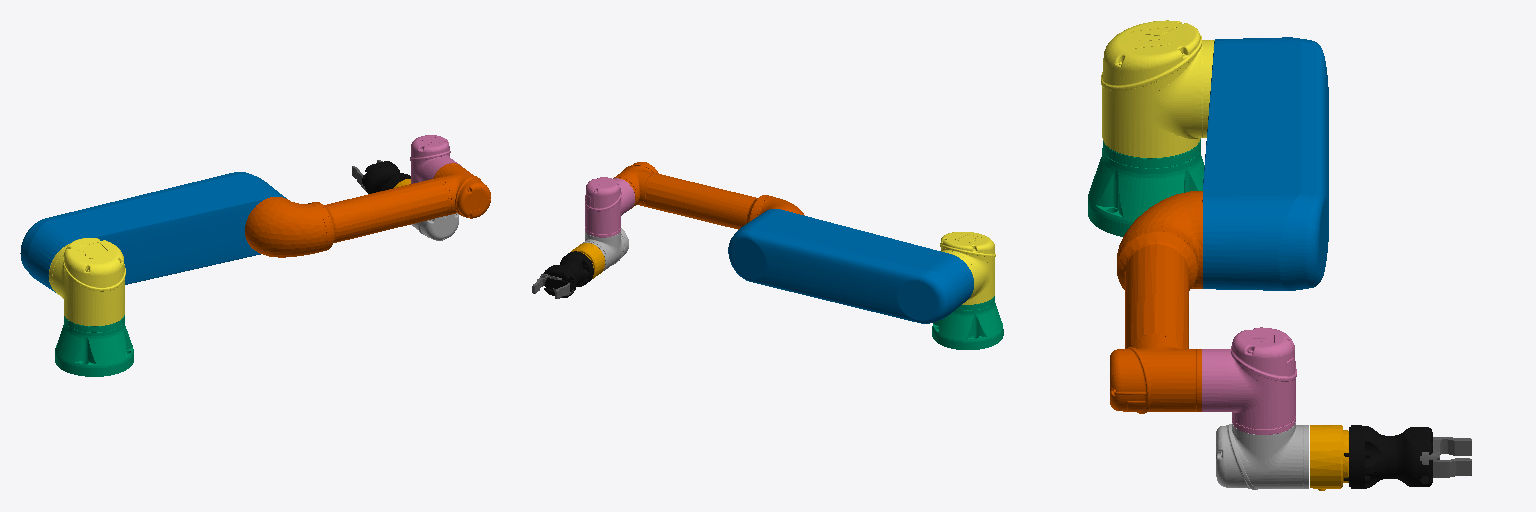
URDF robot description (ur5e):
<?xml version="1.0" ?>
<!-- =================================================================================== -->
<!-- |    This document was autogenerated by xacro from ur.urdf.xacro                  | -->
<!-- |    EDITING THIS FILE BY HAND IS NOT RECOMMENDED                                 | -->
<!-- =================================================================================== -->
<robot name="ur5e">
  <!--
    Base UR robot series xacro macro.

    NOTE this is NOT a URDF. It cannot directly be loaded by consumers
    expecting a flattened '.urdf' file. See the top-level '.xacro' for that
    (but note that .xacro must still be processed by the xacro command).

    This file models the base kinematic chain of a UR robot, which then gets
    parameterised by various configuration files to convert it into a UR3(e),
    UR5(e), UR10(e) or UR16e.

    NOTE the default kinematic parameters (i.e., link lengths, frame locations,
    offsets, etc) do not correspond to any particular robot. They are defaults
    only. There WILL be non-zero offsets between the Forward Kinematics results
    in TF (i.e., robot_state_publisher) and the values reported by the Teach
    Pendant.

    For accurate (and robot-specific) transforms, the 'kinematics_parameters_file'
    parameter MUST point to a .yaml file containing the appropriate values for
    the targeted robot.

    If using the UniversalRobots/Universal_Robots_ROS_Driver, follow the steps
    described in the readme of that repository to extract the kinematic
    calibration from the controller and generate the required .yaml file.

    Main author of the migration to yaml configs Ludovic Delval.

    Contributors to previous versions (in no particular order)

     - Denis Stogl
     - Lovro Ivanov
     - Felix Messmer
     - Kelsey Hawkins
     - Wim Meeussen
     - Shaun Edwards
     - Nadia Hammoudeh Garcia
     - Dave Hershberger
     - G. vd. Hoorn
     - Philip Long
     - Dave Coleman
     - Miguel Prada
     - Mathias Luedtke
     - Marcel Schnirring
     - Felix von Drigalski
     - Felix Exner
     - Jimmy Da Silva
     - Ajit Krisshna N L
     - Muhammad Asif Rana
  -->
  <!-- create link fixed to the "world" -->
  <link name="world"/>
  <!-- links -  main serial chain -->
  <link name="base_link"/>
  <link name="base_link_inertia">
    <visual>
      <origin rpy="0 0 3.141592653589793" xyz="0 0 0"/>
      <geometry>
        <mesh filename="package://ur_description/meshes/ur5e/visual/base.obj"/>
      </geometry>
    </visual>
    <collision>
      <origin rpy="0 0 3.141592653589793" xyz="0 0 0"/>
      <geometry>
        <mesh filename="package://ur_description/meshes/ur5e/visual/base.obj"/>
      </geometry>
    </collision>
    <inertial>
      <mass value="4.0"/>
      <origin rpy="0 0 0" xyz="0 0 0"/>
      <inertia ixx="0.00443333156" ixy="0.0" ixz="0.0" iyy="0.00443333156" iyz="0.0" izz="0.0072"/>
    </inertial>
  </link>
  <link name="shoulder_link">
    <visual>
      <origin rpy="0 0 3.141592653589793" xyz="0 0 0"/>
      <geometry>
        <mesh filename="package://ur_description/meshes/ur5e/visual/shoulder.obj"/>
      </geometry>
    </visual>
    <collision>
      <origin rpy="0 0 3.141592653589793" xyz="0 0 0"/>
      <geometry>
        <mesh filename="package://ur_description/meshes/ur5e/collision/shoulder.obj"/>
      </geometry>
    </collision>
    <inertial>
      <mass value="3.761"/>
      <origin rpy="1.570796326794897 0 0" xyz="0.0 -0.00193 -0.02561"/>
      <inertia ixx="0.0070021" ixy="7.3e-07" ixz="-1.053e-05" iyy="0.00648091" iyz="0.00049994" izz="0.00657286"/>
    </inertial>
  </link>
  <link name="upper_arm_link">
    <visual>
      <origin rpy="1.5707963267948966 0 -1.5707963267948966" xyz="0 0 0.138"/>
      <geometry>
        <mesh filename="package://ur_description/meshes/ur5e/visual/upperarm.obj"/>
      </geometry>
    </visual>
    <collision>
      <origin rpy="1.5707963267948966 0 -1.5707963267948966" xyz="0 0 0.138"/>
      <geometry>
        <mesh filename="package://ur_description/meshes/ur5e/collision/upperarm.obj"/>
      </geometry>
    </collision>
    <inertial>
      <mass value="8.058"/>
      <origin rpy="0 0 0" xyz="-0.2125 0.0 0.11336"/>
      <inertia ixx="0.01505885" ixy="-5.4e-05" ixz="5.63e-06" iyy="0.33388086" iyz="-1.81e-06" izz="0.33247207"/>
    </inertial>
  </link>
  <link name="forearm_link">
    <visual>
      <origin rpy="1.5707963267948966 0 -1.5707963267948966" xyz="0 0 0.007"/>
      <geometry>
        <mesh filename="package://ur_description/meshes/ur5e/visual/forearm.obj"/>
      </geometry>
    </visual>
    <collision>
      <origin rpy="1.5707963267948966 0 -1.5707963267948966" xyz="0 0 0.007"/>
      <geometry>
        <mesh filename="package://ur_description/meshes/ur5e/collision/forearm.obj"/>
      </geometry>
    </collision>
    <inertial>
      <mass value="2.846"/>
      <origin rpy="0 0 0" xyz="-0.2422 0.0 0.0265"/>
      <inertia ixx="0.00399632" ixy="-1.365e-05" ixz="0.00137272" iyy="0.07879254" iyz="-6.6e-06" izz="0.0784851"/>
    </inertial>
  </link>
  <link name="wrist_1_link">
    <visual>
      <origin rpy="1.5707963267948966 0 0" xyz="0 0 -0.127"/>
      <geometry>
        <mesh filename="package://ur_description/meshes/ur5e/visual/wrist1.obj"/>
      </geometry>
    </visual>
    <collision>
      <origin rpy="1.5707963267948966 0 0" xyz="0 0 -0.127"/>
      <geometry>
        <mesh filename="package://ur_description/meshes/ur5e/collision/wrist1.obj"/>
      </geometry>
    </collision>
    <inertial>
      <mass value="1.37"/>
      <origin rpy="1.570796326794897 0 0" xyz="0.0 -0.01634 -0.0018"/>
      <inertia ixx="0.00165491" ixy="-2.82e-06" ixz="-4.38e-06" iyy="0.00135962" iyz="0.00010157" izz="0.00126279"/>
    </inertial>
  </link>
  <link name="wrist_2_link">
    <visual>
      <origin rpy="0 0 0" xyz="0 0 -0.0997"/>
      <geometry>
        <mesh filename="package://ur_description/meshes/ur5e/visual/wrist2.obj"/>
      </geometry>
    </visual>
    <collision>
      <origin rpy="0 0 0" xyz="0 0 -0.0997"/>
      <geometry>
        <mesh filename="package://ur_description/meshes/ur5e/collision/wrist2.obj"/>
      </geometry>
    </collision>
    <inertial>
      <mass value="1.3"/>
      <origin rpy="-1.570796326794897 0 0" xyz="0.0 0.01634 -0.0018"/>
      <inertia ixx="0.00135617" ixy="-2.74e-06" ixz="4.44e-06" iyy="0.00127827" iyz="-5.048e-05" izz="0.00096614"/>
    </inertial>
  </link>
  <link name="wrist_3_link">
    <visual>
      <origin rpy="1.5707963267948966 0 0" xyz="0 0 -0.0989"/>
      <geometry>
        <mesh filename="package://ur_description/meshes/ur5e/visual/wrist3.obj"/>
      </geometry>
    </visual>
    <collision>
      <origin rpy="1.5707963267948966 0 0" xyz="0 0 -0.0989"/>
      <geometry>
        <mesh filename="package://ur_description/meshes/ur5e/collision/wrist3.obj"/>
      </geometry>
    </collision>
    <inertial>
      <mass value="0.365"/>
      <origin rpy="0 0 0" xyz="0.0 0.0 -0.001159"/>
      <inertia ixx="0.00018694" ixy="6e-08" ixz="-1.7e-07" iyy="0.00018908" iyz="-9.2e-07" izz="0.00025756"/>
    </inertial>
  </link>
  <!-- base_joint fixes base_link to the environment -->
  <joint name="base_joint" type="fixed">
    <origin rpy="0 0 0" xyz="0 0 0"/>
    <parent link="world"/>
    <child link="base_link"/>
  </joint>
  <!-- joints - main serial chain -->
  <joint name="base_link-base_link_inertia" type="fixed">
    <parent link="base_link"/>
    <child link="base_link_inertia"/>
    <!-- 'base_link' is REP-103 aligned (so X+ forward), while the internal
           frames of the robot/controller have X+ pointing backwards.
           Use the joint between 'base_link' and 'base_link_inertia' (a dummy
           link/frame) to introduce the necessary rotation over Z (of pi rad).
      -->
    <origin rpy="0 0 3.141592653589793" xyz="0 0 0"/>
  </joint>
  <joint name="shoulder_pan_joint" type="revolute">
    <parent link="base_link_inertia"/>
    <child link="shoulder_link"/>
    <origin rpy="0 0 0" xyz="0 0 0.1625"/>
    <axis xyz="0 0 1"/>
    <limit effort="150.0" lower="-6.283185307179586" upper="6.283185307179586" velocity="3.141592653589793"/>
    <dynamics damping="0" friction="0"/>
  </joint>
  <joint name="shoulder_lift_joint" type="revolute">
    <parent link="shoulder_link"/>
    <child link="upper_arm_link"/>
    <origin rpy="1.570796327 0 0" xyz="0 0 0"/>
    <axis xyz="0 0 1"/>
    <limit effort="150.0" lower="-6.283185307179586" upper="6.283185307179586" velocity="3.141592653589793"/>
    <dynamics damping="0" friction="0"/>
  </joint>
  <joint name="elbow_joint" type="revolute">
    <parent link="upper_arm_link"/>
    <child link="forearm_link"/>
    <origin rpy="0 0 0" xyz="-0.425 0 0"/>
    <axis xyz="0 0 1"/>
    <limit effort="150.0" lower="-3.141592653589793" upper="3.141592653589793" velocity="3.141592653589793"/>
    <dynamics damping="0" friction="0"/>
  </joint>
  <joint name="wrist_1_joint" type="revolute">
    <parent link="forearm_link"/>
    <child link="wrist_1_link"/>
    <origin rpy="0 0 0" xyz="-0.3922 0 0.1333"/>
    <axis xyz="0 0 1"/>
    <limit effort="28.0" lower="-6.283185307179586" upper="6.283185307179586" velocity="3.141592653589793"/>
    <dynamics damping="0" friction="0"/>
  </joint>
  <joint name="wrist_2_joint" type="revolute">
    <parent link="wrist_1_link"/>
    <child link="wrist_2_link"/>
    <origin rpy="1.570796327 0 0" xyz="0 -0.0997 -2.044881182297852e-11"/>
    <axis xyz="0 0 1"/>
    <limit effort="28.0" lower="-6.283185307179586" upper="6.283185307179586" velocity="3.141592653589793"/>
    <dynamics damping="0" friction="0"/>
  </joint>
  <joint name="wrist_3_joint" type="revolute">
    <parent link="wrist_2_link"/>
    <child link="wrist_3_link"/>
    <origin rpy="1.570796326589793 3.141592653589793 3.141592653589793" xyz="0 0.0996 -2.042830148012698e-11"/>
    <axis xyz="0 0 1"/>
    <limit effort="28.0" lower="-6.283185307179586" upper="6.283185307179586" velocity="3.141592653589793"/>
    <dynamics damping="0" friction="0"/>
  </joint>
  <transmission name="shoulder_pan_trans">
    <type>transmission_interface/SimpleTransmission</type>
    <joint name="shoulder_pan_joint">
      <hardwareInterface>hardware_interface/PositionJointInterface</hardwareInterface>
    </joint>
    <actuator name="shoulder_pan_motor">
      <mechanicalReduction>1</mechanicalReduction>
    </actuator>
  </transmission>
  <transmission name="shoulder_lift_trans">
    <type>transmission_interface/SimpleTransmission</type>
    <joint name="shoulder_lift_joint">
      <hardwareInterface>hardware_interface/PositionJointInterface</hardwareInterface>
    </joint>
    <actuator name="shoulder_lift_motor">
      <mechanicalReduction>1</mechanicalReduction>
    </actuator>
  </transmission>
  <transmission name="elbow_trans">
    <type>transmission_interface/SimpleTransmission</type>
    <joint name="elbow_joint">
      <hardwareInterface>hardware_interface/PositionJointInterface</hardwareInterface>
    </joint>
    <actuator name="elbow_motor">
      <mechanicalReduction>1</mechanicalReduction>
    </actuator>
  </transmission>
  <transmission name="wrist_1_trans">
    <type>transmission_interface/SimpleTransmission</type>
    <joint name="wrist_1_joint">
      <hardwareInterface>hardware_interface/PositionJointInterface</hardwareInterface>
    </joint>
    <actuator name="wrist_1_motor">
      <mechanicalReduction>1</mechanicalReduction>
    </actuator>
  </transmission>
  <transmission name="wrist_2_trans">
    <type>transmission_interface/SimpleTransmission</type>
    <joint name="wrist_2_joint">
      <hardwareInterface>hardware_interface/PositionJointInterface</hardwareInterface>
    </joint>
    <actuator name="wrist_2_motor">
      <mechanicalReduction>1</mechanicalReduction>
    </actuator>
  </transmission>
  <transmission name="wrist_3_trans">
    <type>transmission_interface/SimpleTransmission</type>
    <joint name="wrist_3_joint">
      <hardwareInterface>hardware_interface/PositionJointInterface</hardwareInterface>
    </joint>`
    <actuator name="wrist_3_motor">
      <mechanicalReduction>1</mechanicalReduction>
    </actuator>
  </transmission>
  <link name="ft_frame"/>
  <joint name="wrist_3_link-ft_frame" type="fixed">
    <parent link="wrist_3_link"/>
    <child link="ft_frame"/>
    <origin rpy="3.141592653589793 0 0" xyz="0 0 0"/>
  </joint>
  <!-- ROS-Industrial 'base' frame - base_link to UR 'Base' Coordinates transform -->
  <link name="base"/>
  <joint name="base_link-base_fixed_joint" type="fixed">
    <!-- Note the rotation over Z of pi radians - as base_link is REP-103
           aligned (i.e., has X+ forward, Y+ left and Z+ up), this is needed
           to correctly align 'base' with the 'Base' coordinate system of
           the UR controller.
      -->
    <origin rpy="0 0 3.141592653589793" xyz="0 0 0"/>
    <parent link="base_link"/>
    <child link="base"/>
  </joint>
  <!-- ROS-Industrial 'flange' frame - attachment point for EEF models -->
  <link name="flange"/>
  <joint name="wrist_3-flange" type="fixed">
    <parent link="wrist_3_link"/>
    <child link="flange"/>
    <origin rpy="0 -1.5707963267948966 -1.5707963267948966" xyz="0 0 0"/>
  </joint>
  <!-- ROS-Industrial 'tool0' frame - all-zeros tool frame -->
  <link name="tool0"/>
  <joint name="flange-tool0" type="fixed">
    <!-- default toolframe - X+ left, Y+ up, Z+ front -->
    <origin rpy="1.5707963267948966 0 1.5707963267948966" xyz="0 0 0"/>
    <parent link="flange"/>
    <child link="tool0"/>
  </joint>
  <link name="hand_e_link">
    <inertial>
      <origin rpy="0 0 0" xyz="0 0 0.04607"/>
      <mass value="0.86387"/>
      <inertia ixx="1017560E-9" ixy="0" ixz="2235E-9" iyy="1028041E-9" iyz="0" izz="489810E-9"/>
    </inertial>
    <visual>
      <origin rpy="0 0 0" xyz="0 0 0"/>
      <geometry>
        <mesh filename="../meshes/hand-e.obj" scale="1.0 1.0 1.0"/>
      </geometry>
      <material name="Dark">
        <color rgba=".1 0.1 0.1 1.0"/>
      </material>
    </visual>
    <collision>
      <origin rpy="0 0 0" xyz="0 0 0"/>
      <geometry>
        <mesh filename="../meshes/hand-e.obj" scale="1.0 1.0 1.0"/>
      </geometry>
    </collision>
  </link>
  <link name="hande_left_finger">
    <inertial>
      <origin rpy="0 0 0" xyz="0.02262 -0.00759 0.00738"/>
      <mass value="0.03804"/>
      <inertia ixx="13567E-9" ixy="1849E-9" ixz="3622E-9" iyy="15784E-9" iyz="3616E-9" izz="7478E-9"/>
    </inertial>
    <visual>
      <origin rpy="0 0 0" xyz="0 0 0"/>
      <geometry>
        <mesh filename="../meshes/finger_1.obj" scale="1.0 1.0 1.0"/>
      </geometry>
      <material name="DarkGray">
        <color rgba=".4 0.4 0.4 1.0"/>
      </material>
    </visual>
    <collision>
      <origin rpy="0 0 0" xyz="0 0 0"/>
      <geometry>
        <mesh filename="../meshes/finger_1.obj" scale="1.0 1.0 1.0"/>
      </geometry>
    </collision>
  </link>
  <link name="hande_right_finger">
    <inertial>
      <origin rpy="0 0 0" xyz="-0.02262 0.00759 0.00738"/>
      <mass value="0.03804"/>
      <inertia ixx="13567E-9" ixy="1849E-9" ixz="-3622E-9" iyy="15784E-9" iyz="-3616E-9" izz="7478E-9"/>
    </inertial>
    <visual>
      <origin rpy="0 0 0" xyz="0 0 0"/>
      <geometry>
        <mesh filename="../meshes/finger_2.obj" scale="1.0 1.0 1.0"/>
      </geometry>
      <material name="DarkGray">
        <color rgba=".4 0.4 0.4 1.0"/>
      </material>
    </visual>
    <collision>
      <origin rpy="0 0 0" xyz="0 0 0"/>
      <geometry>
        <mesh filename="../meshes/finger_2.obj" scale="1.0 1.0 1.0"/>
      </geometry>
    </collision>
  </link>
  <!--joint name="hande_left_finger_joint" type="prismatic">
    <origin rpy="0 0 0" xyz="0 0 0.099"/>
    <parent link="hand_e_link"/>
    <child link="hande_left_finger"/>
    <axis xyz="-1 0 0"/>
    <limit effort="130" lower="0" upper="0.025" velocity="0.15"/>
  </joint-->
  <joint name="hande_left_finger_joint" type="fixed">
    <origin rpy="0 0 0" xyz="0 0 0.099"/>
    <parent link="hand_e_link"/>
    <child link="hande_left_finger"/>
  </joint>
  <!--joint name="hande_right_finger_joint" type="prismatic">
    <origin rpy="0 0 0" xyz="0 0 0.099"/>
    <parent link="hand_e_link"/>
    <child link="hande_right_finger"/>
    <axis xyz="1 0 0"/>
    <limit effort="130" lower="0" upper="0.025" velocity="0.15"/>
    <mimic joint="hande_left_finger_joint" multiplier="1" offset="0"/>
  </joint-->
  <joint name="hande_right_finger_joint" type="fixed">
    <origin rpy="0 0 0" xyz="0 0 0.099"/>
    <parent link="hand_e_link"/>
    <child link="hande_right_finger"/>
  </joint>
  <joint name="fixed_hande_attachment" type="fixed">
    <parent link="tool0"/>
    <child link="hand_e_link"/>
    <origin xyz="0 0 0.0" rpy="0 0 0"/>
  </joint>
</robot>

--- What the picture shows (computed from the rendered views, not written in the file) ---
Views: 3 orthographic renders of the robot side by side, from view 1: azimuth 30°, elevation 25°; view 2: azimuth 150°, elevation 25°; view 3: azimuth 270°, elevation 25°.
Robot: ur5e — 16 links, 15 joints (6 revolute, 9 fixed); root link world; default pose: all joints at 0.
Links seen in each view (by area): view 1: upper_arm_link, forearm_link, shoulder_link, base_link_inertia, wrist_1_link, hand_e_link, wrist_2_link; view 2: upper_arm_link, forearm_link, base_link_inertia, wrist_1_link, shoulder_link, hand_e_link, wrist_2_link; view 3: upper_arm_link, forearm_link, shoulder_link, wrist_1_link, base_link_inertia, wrist_2_link, hand_e_link, wrist_3_link, hande_right_finger, hande_left_finger.
Link boxes in pixels (x1,y1,x2,y2): upper_arm_link: [20, 172, 286, 292]; forearm_link: [245, 163, 490, 257]; shoulder_link: [49, 238, 125, 325]; base_link_inertia: [55, 315, 133, 376]; wrist_1_link: [410, 135, 460, 183]; hand_e_link: [362, 161, 410, 193]; wrist_2_link: [411, 213, 458, 240]; upper_arm_link: [728, 209, 973, 323]; forearm_link: [613, 162, 804, 229]; base_link_inertia: [932, 296, 1003, 349]; wrist_1_link: [585, 177, 634, 237]; shoulder_link: [940, 232, 995, 304]; hand_e_link: [544, 251, 593, 297]; wrist_2_link: [582, 228, 628, 270]; upper_arm_link: [1203, 37, 1328, 290]; forearm_link: [1110, 191, 1202, 413]; shoulder_link: [1101, 20, 1214, 157]; wrist_1_link: [1202, 327, 1296, 434]; base_link_inertia: [1088, 139, 1204, 236]; wrist_2_link: [1216, 422, 1308, 489]; hand_e_link: [1344, 425, 1432, 488]; wrist_3_link: [1310, 425, 1348, 490]; hande_right_finger: [1420, 442, 1471, 477]; hande_left_finger: [1433, 437, 1471, 455].
Bounding box of the posed robot: 0.932 × 0.4544 × 0.234 m (x, y, z).
Meshes: 10 distinct files referenced, 10 mesh visuals loaded (10 OBJ).
